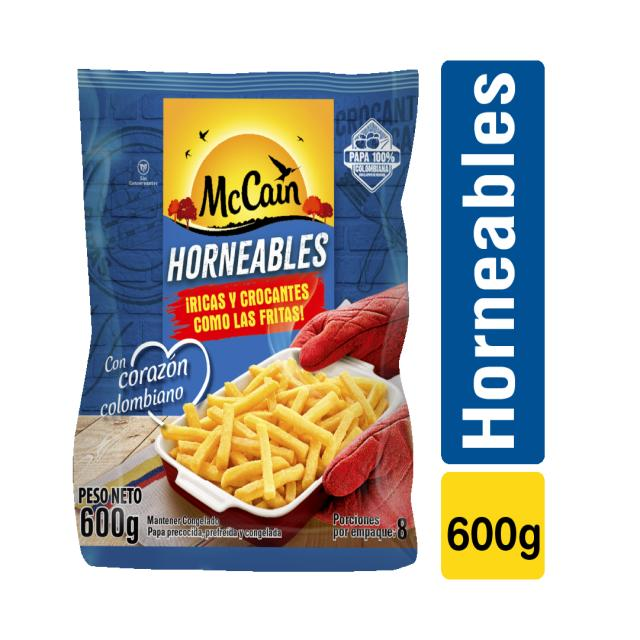papa: (168, 359, 386, 498)
